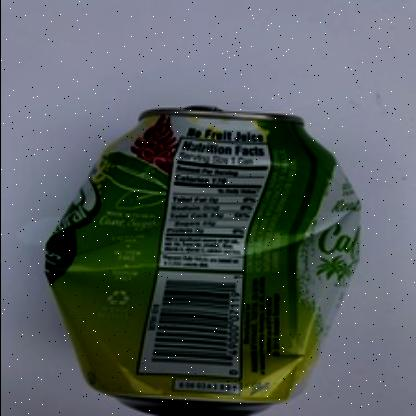Can: (44, 104, 362, 416)
